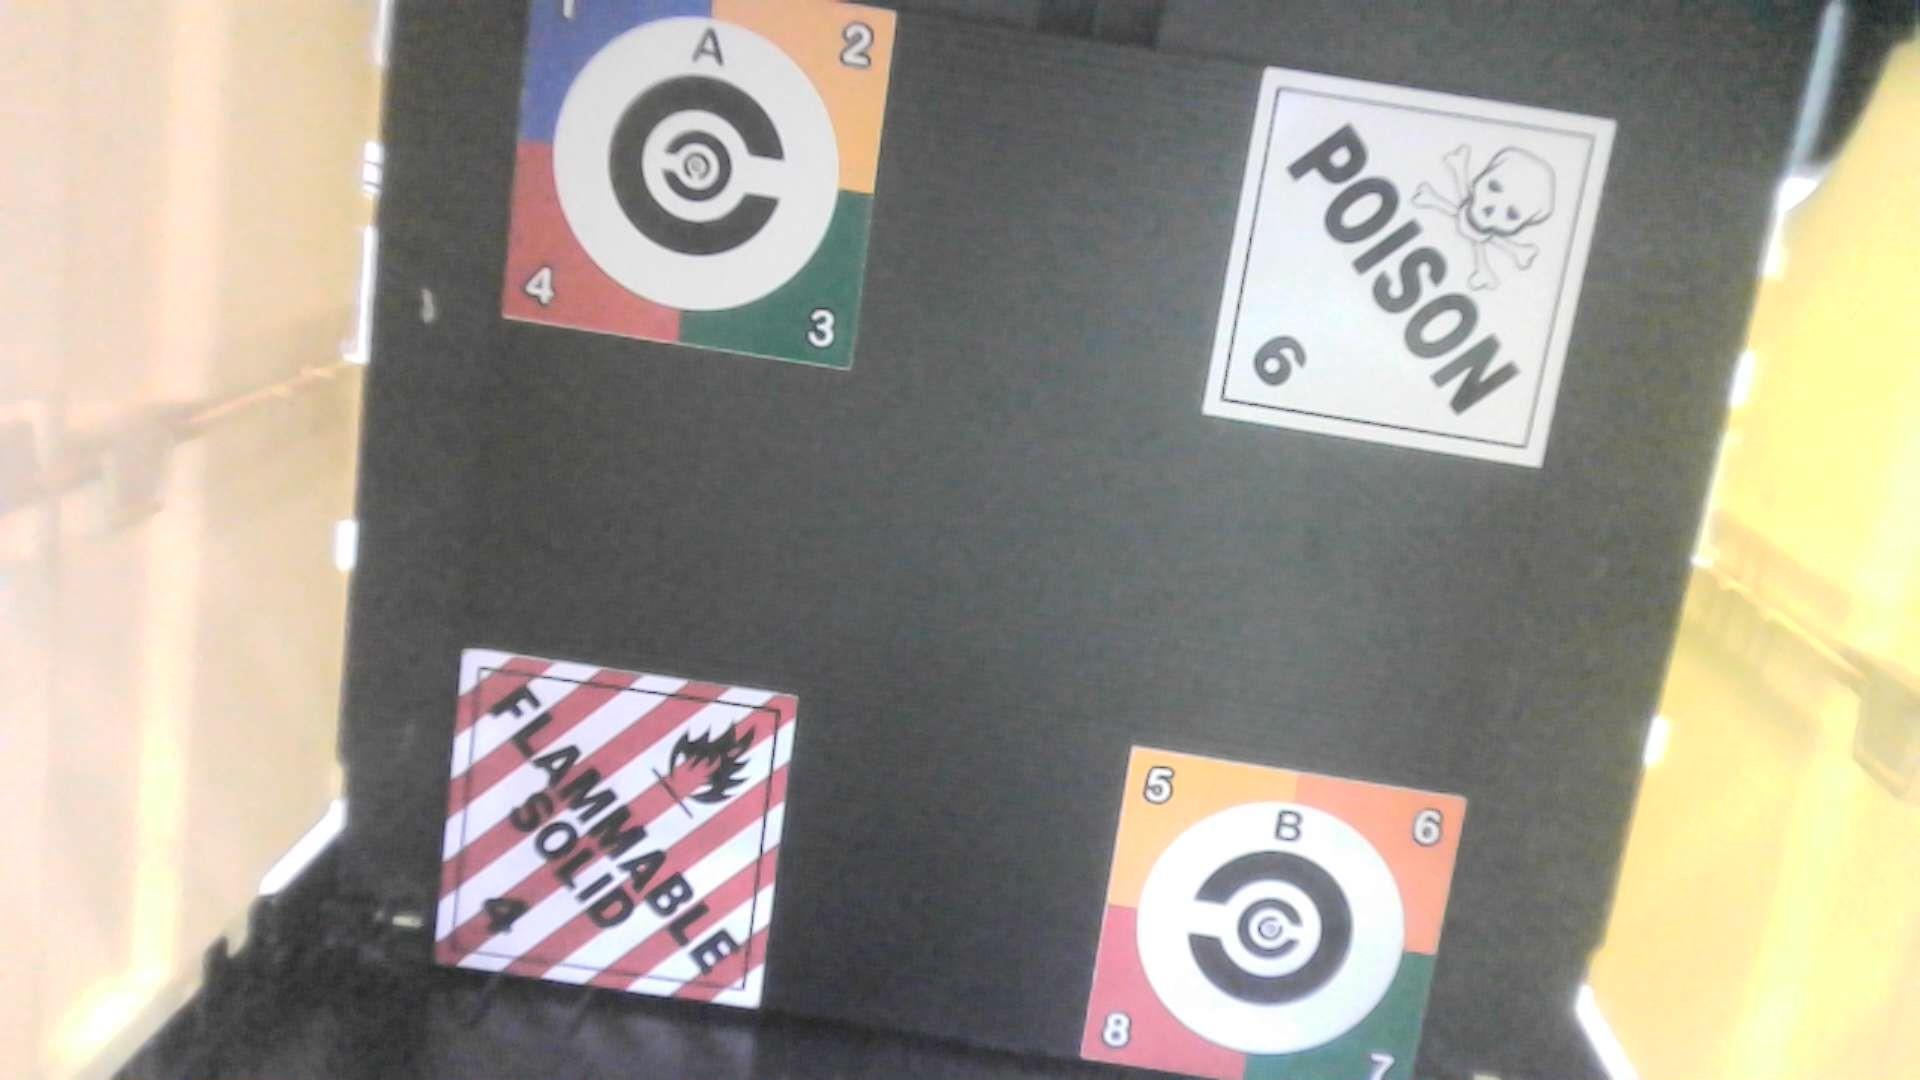flammable-solid: (442, 640, 802, 1010)
poison: (1193, 62, 1626, 479)
